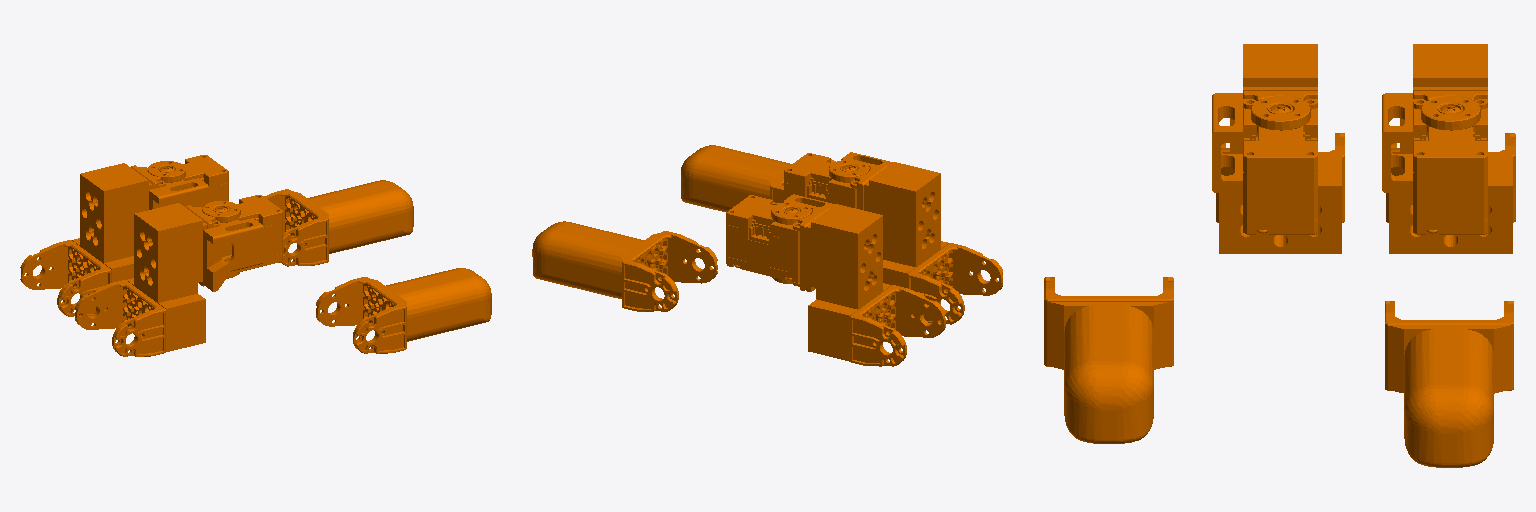
URDF robot description (onshape):
<robot name="onshape">
  <link name="palm_lower">
    <inertial>
      <origin xyz="0.0 0.0 0.0" rpy="0.0 -0.0 0.0"/>
      <mass value="0.237"/>
      <inertia ixx="0.000354094" ixy="-1.193e-06" ixz="-2.445e-06" iyy="0.000260915" iyz="-2.905e-06" izz="0.000529257"/>
    </inertial>
    <visual>
      <geometry>
        <mesh filename="../assets/leap/leap_hand/palm_lower.stl"/>
      </geometry>
      <origin xyz="-0.020095249652862544 0.025757756134899473 -0.034722403578460216" rpy="0.0 -0.0 0.0"/>
      <material name="palm_lower_material">
        <color rgba="0.6039215686274509 0.14901960784313725 0.14901960784313725 1.0"/>
      </material>
    </visual>
    <collision>
      <geometry>
        <mesh filename="../assets/leap/leap_hand/palm_lower.stl"/>
      </geometry>
      <origin xyz="-0.020095249652862544 0.025757756134899473 -0.034722403578460216" rpy="0.0 -0.0 0.0"/>
    </collision>
  </link>
  <link name="mcp_joint_long">
    <inertial>
      <origin xyz="0.0 0.0 0.0" rpy="0.0 -0.0 0.0"/>
      <mass value="0.044"/>
      <inertia ixx="1.1499e-05" ixy="3.049e-06" ixz="1.21e-07" iyy="7.796e-06" iyz="1.12e-07" izz="1.4759e-05"/>
    </inertial>
    <visual>
      <geometry>
        <mesh filename="custom_models/mcp_joint_long.stl"/>
      </geometry>
      <origin xyz="0.008406902261174496 0.0077662438597169954 0.014657354985032912" rpy="1.6375789613221e-15 -1.021047330249102e-30 1.7177968783327987e-31"/>
      <material name="mcp_joint_material">
        <color rgba="0.878 0.467 0.0 1.0"/>
      </material>
    </visual>
    <collision>
      <geometry>
        <mesh filename="custom_models/mcp_joint_long.stl"/>
      </geometry>
      <origin xyz="0.008406902261174496 0.0077662438597169954 0.014657354985032912" rpy="1.6375789613221e-15 -1.021047330249102e-30 1.7177968783327987e-31"/>
    </collision>
  </link>
  <link name="pip">
    <inertial>
      <origin xyz="0.0 0.0 0.0" rpy="0.0 -0.0 0.0"/>
      <mass value="0.032"/>
      <inertia ixx="4.798e-06" ixy="1.2e-08" ixz="4e-09" iyy="2.862e-06" iyz="1.1e-08" izz="4.234e-06"/>
    </inertial>
    <visual>
      <geometry>
        <mesh filename="../assets/leap/leap_hand/pip.stl"/>
      </geometry>
      <origin xyz="0.009643363092271328 0.0002999999999999895 0.0007840340104173765" rpy="-1.5707963267948966 -1.5707963267948963 0.0"/>
      <material name="pip_material">
        <color rgba="0.7490196078431373 0.7490196078431373 0.7490196078431373 1.0"/>
      </material>
    </visual>
    <collision>
      <geometry>
        <mesh filename="../assets/leap/leap_hand/pip.stl"/>
      </geometry>
      <origin xyz="0.009643363092271328 0.0002999999999999895 0.0007840340104173765" rpy="-1.5707963267948966 -1.5707963267948963 0.0"/>
    </collision>
  </link>
  <link name="dip">
    <inertial>
      <origin xyz="0.0 0.0 0.0" rpy="0.0 -0.0 0.0"/>
      <mass value="0.037"/>
      <inertia ixx="5.542e-06" ixy="-6.07e-07" ixz="-1.7e-08" iyy="5.727e-06" iyz="-2.3e-08" izz="6.682e-06"/>
    </inertial>
    <visual>
      <geometry>
        <mesh filename="../assets/leap/leap_hand/dip.stl"/>
      </geometry>
      <origin xyz="0.021133352895225003 -0.00843211914670488 0.00978508816209524" rpy="-3.141592653589793 4.507511124216441e-32 4.439548105392361e-32"/>
      <material name="dip_material">
        <color rgba="0.8666666666666667 0.8666666666666667 0.050980392156862744 1.0"/>
      </material>
    </visual>
    <collision>
      <geometry>
        <mesh filename="../assets/leap/leap_hand/dip.stl"/>
      </geometry>
      <origin xyz="0.021133352895225003 -0.00843211914670488 0.00978508816209524" rpy="-3.141592653589793 4.507511124216441e-32 4.439548105392361e-32"/>
    </collision>
  </link>
  <link name="fingertip_long">
    <inertial>
      <origin xyz="0.0 0.0 0.0" rpy="0.0 -0.0 0.0"/>
      <mass value="0.016"/>
      <inertia ixx="3.368e-06" ixy="1.15e-07" ixz="0.0" iyy="1.556e-06" iyz="0.0" izz="2.863e-06"/>
    </inertial>
    <visual>
      <geometry>
        <mesh filename="custom_models/fingertip_long.stl"/>
      </geometry>
      <origin xyz="0.013286424108533503 -0.006114238386541987 0.014499999999999498" rpy="3.141592653589793 1.1993117970061735e-33 4.439548105392361e-32"/>
      <material name="fingertip_material">
        <color rgba="0.878 0.467 0.0 1.0"/>
      </material>
    </visual>
    <collision>
      <geometry>
        <mesh filename="custom_models/fingertip_long.stl"/>
      </geometry>
      <origin xyz="0.013286424108533503 -0.006114238386541987 0.014499999999999498" rpy="3.141592653589793 1.1993117970061735e-33 4.439548105392361e-32"/>
    </collision>
  </link>
  <link name="pip_4">
    <inertial>
      <origin xyz="0.0 0.0 0.0" rpy="0.0 -0.0 0.0"/>
      <mass value="0.032"/>
      <inertia ixx="4.798e-06" ixy="1.2e-08" ixz="4e-09" iyy="2.862e-06" iyz="1.1e-08" izz="4.234e-06"/>
    </inertial>
    <visual>
      <geometry>
        <mesh filename="../assets/leap/leap_hand/pip.stl"/>
      </geometry>
      <origin xyz="-0.005356636907728671 0.0002999999999999999 0.0007840340104173782" rpy="-1.5707963267948966 -1.5707963267948963 0.0"/>
      <material name="pip_material">
        <color rgba="0.7490196078431373 0.7490196078431373 0.7490196078431373 1.0"/>
      </material>
    </visual>
    <collision>
      <geometry>
        <mesh filename="../assets/leap/leap_hand/pip.stl"/>
      </geometry>
      <origin xyz="-0.005356636907728671 0.0002999999999999999 0.0007840340104173782" rpy="-1.5707963267948966 -1.5707963267948963 0.0"/>
    </collision>
  </link>
  <link name="thumb_pip">
    <inertial>
      <origin xyz="0.0 0.0 0.0" rpy="0.0 -0.0 0.0"/>
      <mass value="0.003"/>
      <inertia ixx="5.93e-07" ixy="0.0" ixz="0.0" iyy="5.49e-07" iyz="0.0" izz="2.24e-07"/>
    </inertial>
    <visual>
      <geometry>
        <mesh filename="../assets/leap/leap_hand/thumb_pip.stl"/>
      </geometry>
      <origin xyz="0.011961920770611187 -5.30825383648903e-16 -0.0158526489566642" rpy="1.5707963267948966 1.6050198443300153e-46 -3.9204996250525193e-59"/>
      <material name="thumb_pip_material">
        <color rgba="0.8666666666666667 0.8666666666666667 0.050980392156862744 1.0"/>
      </material>
    </visual>
    <collision>
      <geometry>
        <mesh filename="../assets/leap/leap_hand/thumb_pip.stl"/>
      </geometry>
      <origin xyz="0.011961920770611187 -5.30825383648903e-16 -0.0158526489566642" rpy="1.5707963267948966 1.6050198443300153e-46 -3.9204996250525193e-59"/>
    </collision>
  </link>
  <link name="thumb_dip">
    <inertial>
      <origin xyz="0.0 0.0 0.0" rpy="0.0 -0.0 0.0"/>
      <mass value="0.038"/>
      <inertia ixx="8.474e-06" ixy="2.41e-07" ixz="2.6e-08" iyy="3.841e-06" iyz="2.5e-08" izz="7.679e-06"/>
    </inertial>
    <visual>
      <geometry>
        <mesh filename="../assets/leap/leap_hand/thumb_dip.stl"/>
      </geometry>
      <origin xyz="0.043968715707239175 0.0579529529737092 -0.008628676449369476" rpy="1.94289029309401e-16 3.27515792264422e-15 1.112375852965736e-46"/>
      <material name="thumb_dip_material">
        <color rgba="0.8666666666666667 0.8666666666666667 0.050980392156862744 1.0"/>
      </material>
    </visual>
    <collision>
      <geometry>
        <mesh filename="../assets/leap/leap_hand/thumb_dip.stl"/>
      </geometry>
      <origin xyz="0.043968715707239175 0.0579529529737092 -0.008628676449369476" rpy="1.94289029309401e-16 3.27515792264422e-15 1.112375852965736e-46"/>
    </collision>
  </link>
  <link name="thumb_fingertip">
    <inertial>
      <origin xyz="0.0 0.0 0.0" rpy="0.0 -0.0 0.0"/>
      <mass value="0.049"/>
      <inertia ixx="2.0372e-05" ixy="-4.89e-07" ixz="-3e-08" iyy="4.336e-06" iyz="-9.7e-08" izz="1.9845e-05"/>
    </inertial>
    <visual>
      <geometry>
        <mesh filename="../assets/leap/leap_hand/thumb_fingertip.stl"/>
      </geometry>
      <origin xyz="0.06255953846266739 0.07845968291139699 0.048992911807332215" rpy="4.379057701015637e-47 -3.33066907387547e-16 1.2042408677791935e-46"/>
      <material name="thumb_fingertip_material">
        <color rgba="0.6039215686274509 0.14901960784313725 0.14901960784313725 1.0"/>
      </material>
    </visual>
    <collision>
      <geometry>
        <mesh filename="../assets/leap/leap_hand/thumb_fingertip.stl"/>
      </geometry>
      <origin xyz="0.06255953846266739 0.07845968291139699 0.048992911807332215" rpy="4.379057701015637e-47 -3.33066907387547e-16 1.2042408677791935e-46"/>
    </collision>
  </link>
  <link name="mcp_joint_2_long">
    <inertial>
      <origin xyz="0.0 0.0 0.0" rpy="0.0 -0.0 0.0"/>
      <mass value="0.044"/>
      <inertia ixx="1.1499e-05" ixy="3.049e-06" ixz="1.21e-07" iyy="7.796e-06" iyz="1.12e-07" izz="1.4759e-05"/>
    </inertial>
    <visual>
      <geometry>
        <mesh filename="custom_models/mcp_joint_long.stl"/>
      </geometry>
      <origin xyz="0.008406902261174496 0.0077662438597169954 0.014657354985032914" rpy="1.6375789613221e-15 -1.0076465469034e-30 2.1209300131419907e-61"/>
      <material name="mcp_joint_material">
        <color rgba="0.878 0.467 0.0 1.0"/>
      </material>
    </visual>
    <collision>
      <geometry>
        <mesh filename="custom_models/mcp_joint_long.stl"/>
      </geometry>
      <origin xyz="0.008406902261174496 0.0077662438597169954 0.014657354985032914" rpy="1.6375789613221e-15 -1.0076465469034e-30 2.1209300131419907e-61"/>
    </collision>
  </link>
  <link name="pip_2">
    <inertial>
      <origin xyz="0.0 0.0 0.0" rpy="0.0 -0.0 0.0"/>
      <mass value="0.032"/>
      <inertia ixx="4.798e-06" ixy="1.2e-08" ixz="4e-09" iyy="2.862e-06" iyz="1.1e-08" izz="4.234e-06"/>
    </inertial>
    <visual>
      <geometry>
        <mesh filename="../assets/leap/leap_hand/pip.stl"/>
      </geometry>
      <origin xyz="0.009643363092271328 0.0002999999999999947 0.0007840340104173765" rpy="-1.5707963267948966 -1.5707963267948963 0.0"/>
      <material name="pip_material">
        <color rgba="0.7490196078431373 0.7490196078431373 0.7490196078431373 1.0"/>
      </material>
    </visual>
    <collision>
      <geometry>
        <mesh filename="../assets/leap/leap_hand/pip.stl"/>
      </geometry>
      <origin xyz="0.009643363092271328 0.0002999999999999947 0.0007840340104173765" rpy="-1.5707963267948966 -1.5707963267948963 0.0"/>
    </collision>
  </link>
  <link name="dip_2">
    <inertial>
      <origin xyz="0.0 0.0 0.0" rpy="0.0 -0.0 0.0"/>
      <mass value="0.037"/>
      <inertia ixx="5.542e-06" ixy="-6.07e-07" ixz="-1.7e-08" iyy="5.727e-06" iyz="-2.3e-08" izz="6.682e-06"/>
    </inertial>
    <visual>
      <geometry>
        <mesh filename="../assets/leap/leap_hand/dip.stl"/>
      </geometry>
      <origin xyz="0.021133352895225003 -0.008432119146704865 0.009785088162095237" rpy="-3.141592653589793 2.1146933785271956e-32 1.4408183216511869e-31"/>
      <material name="dip_material">
        <color rgba="0.8666666666666667 0.8666666666666667 0.050980392156862744 1.0"/>
      </material>
    </visual>
    <collision>
      <geometry>
        <mesh filename="../assets/leap/leap_hand/dip.stl"/>
      </geometry>
      <origin xyz="0.021133352895225003 -0.008432119146704865 0.009785088162095237" rpy="-3.141592653589793 2.1146933785271956e-32 1.4408183216511869e-31"/>
    </collision>
  </link>
  <link name="fingertip_2">
    <inertial>
      <origin xyz="0.0 0.0 0.0" rpy="0.0 -0.0 0.0"/>
      <mass value="0.016"/>
      <inertia ixx="3.368e-06" ixy="1.15e-07" ixz="0.0" iyy="1.556e-06" iyz="0.0" izz="2.863e-06"/>
    </inertial>
    <visual>
      <geometry>
        <mesh filename="../assets/leap/leap_hand/fingertip.stl"/>
      </geometry>
      <origin xyz="0.013286424108533496 -0.006114238386542001 0.014499999999999496" rpy="3.141592653589793 -4.317959788283594e-33 1.4408183216511869e-31"/>
      <material name="fingertip_material">
        <color rgba="0.8666666666666667 0.8666666666666667 0.050980392156862744 1.0"/>
      </material>
    </visual>
    <collision>
      <geometry>
        <mesh filename="../assets/leap/leap_hand/fingertip.stl"/>
      </geometry>
      <origin xyz="0.013286424108533496 -0.006114238386542001 0.014499999999999496" rpy="3.141592653589793 -4.317959788283594e-33 1.4408183216511869e-31"/>
    </collision>
  </link>
  <link name="mcp_joint_3">
    <inertial>
      <origin xyz="0.0 0.0 0.0" rpy="0.0 -0.0 0.0"/>
      <mass value="0.044"/>
      <inertia ixx="1.1499e-05" ixy="3.049e-06" ixz="1.21e-07" iyy="7.796e-06" iyz="1.12e-07" izz="1.4759e-05"/>
    </inertial>
    <visual>
      <geometry>
        <mesh filename="../assets/leap/leap_hand/mcp_joint.stl"/>
      </geometry>
      <origin xyz="0.0084069022611745 0.007766243859716996 0.014657354985032914" rpy="1.6375789613221e-15 -1.0059504988632627e-30 5.729641584552035e-32"/>
      <material name="mcp_joint_material">
        <color rgba="0.8666666666666667 0.8666666666666667 0.050980392156862744 1.0"/>
      </material>
    </visual>
    <collision>
      <geometry>
        <mesh filename="../assets/leap/leap_hand/mcp_joint.stl"/>
      </geometry>
      <origin xyz="0.0084069022611745 0.007766243859716996 0.014657354985032914" rpy="1.6375789613221e-15 -1.0059504988632627e-30 5.729641584552035e-32"/>
    </collision>
  </link>
  <link name="pip_3">
    <inertial>
      <origin xyz="0.0 0.0 0.0" rpy="0.0 -0.0 0.0"/>
      <mass value="0.032"/>
      <inertia ixx="4.798e-06" ixy="1.2e-08" ixz="4e-09" iyy="2.862e-06" iyz="1.1e-08" izz="4.234e-06"/>
    </inertial>
    <visual>
      <geometry>
        <mesh filename="../assets/leap/leap_hand/pip.stl"/>
      </geometry>
      <origin xyz="0.009643363092271331 0.00029999999999998084 0.0007840340104173765" rpy="-1.5707963267948966 -1.5707963267948963 0.0"/>
      <material name="pip_material">
        <color rgba="0.7490196078431373 0.7490196078431373 0.7490196078431373 1.0"/>
      </material>
    </visual>
    <collision>
      <geometry>
        <mesh filename="../assets/leap/leap_hand/pip.stl"/>
      </geometry>
      <origin xyz="0.009643363092271331 0.00029999999999998084 0.0007840340104173765" rpy="-1.5707963267948966 -1.5707963267948963 0.0"/>
    </collision>
  </link>
  <link name="dip_3">
    <inertial>
      <origin xyz="0.0 0.0 0.0" rpy="0.0 -0.0 0.0"/>
      <mass value="0.037"/>
      <inertia ixx="5.542e-06" ixy="-6.07e-07" ixz="-1.7e-08" iyy="5.727e-06" iyz="-2.3e-08" izz="6.682e-06"/>
    </inertial>
    <visual>
      <geometry>
        <mesh filename="../assets/leap/leap_hand/dip.stl"/>
      </geometry>
      <origin xyz="0.021133352895225006 -0.008432119146704865 0.009785088162095237" rpy="-3.141592653589793 -1.4095651113919093e-33 1.5565411607615035e-32"/>
      <material name="dip_material">
        <color rgba="0.8666666666666667 0.8666666666666667 0.050980392156862744 1.0"/>
      </material>
    </visual>
    <collision>
      <geometry>
        <mesh filename="../assets/leap/leap_hand/dip.stl"/>
      </geometry>
      <origin xyz="0.021133352895225006 -0.008432119146704865 0.009785088162095237" rpy="-3.141592653589793 -1.4095651113919093e-33 1.5565411607615035e-32"/>
    </collision>
  </link>
  <link name="fingertip_3_long">
    <inertial>
      <origin xyz="0.0 0.0 0.0" rpy="0.0 -0.0 0.0"/>
      <mass value="0.016"/>
      <inertia ixx="3.368e-06" ixy="1.15e-07" ixz="0.0" iyy="1.556e-06" iyz="0.0" izz="2.863e-06"/>
    </inertial>
    <visual>
      <geometry>
        <mesh filename="custom_models/fingertip_long.stl"/>
      </geometry>
      <origin xyz="0.013286424108533501 -0.006114238386541987 0.0144999999999995" rpy="3.141592653589793 8.61707169505754e-33 1.5565411607615035e-32"/>
      <material name="fingertip_material">
        <color rgba="0.878 0.467 0.0 1.0"/>
      </material>
    </visual>
    <collision>
      <geometry>
        <mesh filename="custom_models/fingertip_long.stl"/>
      </geometry>
      <origin xyz="0.013286424108533501 -0.006114238386541987 0.0144999999999995" rpy="3.141592653589793 8.61707169505754e-33 1.5565411607615035e-32"/>
    </collision>
  </link>
  <joint name="1" type="revolute">
    <parent link="palm_lower"/>
    <child link="mcp_joint_long"/>
    <origin xyz="-0.007095249652862546 0.023057756134899472 -0.01872240357846022" rpy="1.570796326794895 1.5707963267948946 0.0"/>
    <axis xyz="0.0 0.0 -1.0"/>
    <limit effort="0.95" velocity="8.48" lower="-0.314" upper="2.23"/>
  </joint>
  <joint name="0" type="revolute">
    <parent link="mcp_joint_long"/>
    <child link="pip"/>
    <origin xyz="-0.012200000000000007713 0.053099999999999994982 0.014500000000000000736" rpy="-1.5707963267948966 -1.0065212660796337e-15 1.5707963267948943"/>
    <axis xyz="0.0 0.0 -1.0"/>
    <limit effort="0.95" velocity="8.48" lower="-1.047" upper="1.047"/>
  </joint>
  <joint name="2" type="revolute">
    <parent link="pip"/>
    <child link="dip"/>
    <origin xyz="0.014999999999999968 0.014299999999999905 -0.012999999999999824" rpy="1.570796326794896 -1.5707963267948963 0.0"/>
    <axis xyz="0.0 0.0 -1.0"/>
    <limit effort="0.95" velocity="8.48" lower="-0.506" upper="1.885"/>
  </joint>
  <joint name="3" type="revolute">
    <parent link="dip"/>
    <child link="fingertip_long"/>
    <origin xyz="-4.088058249557269e-09 -0.03610000421036737 0.0002000000000000786" rpy="4.5935029425113685e-17 -2.8730071914463795e-16 4.439548105392361e-32"/>
    <axis xyz="0.0 0.0 -1.0"/>
    <limit effort="0.95" velocity="8.48" lower="-0.366" upper="2.042"/>
  </joint>
  <joint name="12" type="revolute">
    <parent link="palm_lower"/>
    <child link="pip_4"/>
    <origin xyz="-0.06939524965286253 -0.0012422438651005258 -0.021622403578460216" rpy="-8.238176646493942e-17 1.5707963267948957 0.0"/>
    <axis xyz="0.0 0.0 -1.0"/>
    <limit effort="0.95" velocity="8.48" lower="-0.349" upper="2.094"/>
  </joint>
  <joint name="13" type="revolute">
    <parent link="pip_4"/>
    <child link="thumb_pip"/>
    <origin xyz="-2.7755575615628914e-17 0.014300000000000005 -0.013000000000000012" rpy="1.570796326794896 -1.5707963267948963 0.0"/>
    <axis xyz="0.0 0.0 -1.0"/>
    <limit effort="0.95" velocity="8.48" lower="-0.47" upper="2.443"/>
  </joint>
  <joint name="14" type="revolute">
    <parent link="thumb_pip"/>
    <child link="thumb_dip"/>
    <origin xyz="0.0 0.014499999999999966 -0.017000000000000053" rpy="-1.5707963267948966 1.6050198443300131e-46 -1.9721522630516625e-31"/>
    <axis xyz="0.0 0.0 -1.0"/>
    <limit effort="0.95" velocity="8.48" lower="-1.2" upper="1.9"/>
  </joint>
  <joint name="15" type="revolute">
    <parent link="thumb_dip"/>
    <child link="thumb_fingertip"/>
    <origin xyz="-1.249000902703301e-16 0.046599999999999864 0.0001999999999999771" rpy="1.506395849149178e-44 5.423418723393526e-31 3.141592653589793"/>
    <axis xyz="0.0 0.0 -1.0"/>
    <limit effort="0.95" velocity="8.48" lower="-1.34" upper="1.88"/>
  </joint>
  <joint name="5" type="revolute">
    <parent link="palm_lower"/>
    <child link="mcp_joint_2_long"/>
    <origin xyz="-0.007095249652862546 -0.022392243865100525 -0.01872240357846022" rpy="1.570796326794895 1.5707963267948946 0.0"/>
    <axis xyz="0.0 0.0 -1.0"/>
    <limit effort="0.95" velocity="8.48" lower="-0.314" upper="2.23"/>
  </joint>
  <joint name="4" type="revolute">
    <parent link="mcp_joint_2_long"/>
    <child link="pip_2"/>
    <origin xyz="-0.012200000000000007713 0.053099999999999994982 0.014500000000000000736" rpy="-1.5707963267948966 -1.0065212660796337e-15 1.5707963267948943"/>
    <axis xyz="0.0 0.0 -1.0"/>
    <limit effort="0.95" velocity="8.48" lower="-1.047" upper="1.047"/>
  </joint>
  <joint name="6" type="revolute">
    <parent link="pip_2"/>
    <child link="dip_2"/>
    <origin xyz="0.014999999999999968 0.014299999999999905 -0.012999999999999824" rpy="1.570796326794896 -1.5707963267948963 0.0"/>
    <axis xyz="0.0 0.0 -1.0"/>
    <limit effort="0.95" velocity="8.48" lower="-0.506" upper="1.885"/>
  </joint>
  <joint name="7" type="revolute">
    <parent link="dip_2"/>
    <child link="fingertip_2"/>
    <origin xyz="-4.088058249557269e-09 -0.03610000421036737 0.0002000000000000786" rpy="4.5935029425113685e-17 -2.8730071914463795e-16 4.439548105392361e-32"/>
    <axis xyz="0.0 0.0 -1.0"/>
    <limit effort="0.95" velocity="8.48" lower="-0.366" upper="2.042"/>
  </joint>
  <joint name="9" type="revolute">
    <parent link="palm_lower"/>
    <child link="mcp_joint_3"/>
    <origin xyz="-0.007095249652862546 -0.06784224386510052 -0.01872240357846022" rpy="1.570796326794895 1.5707963267948946 0.0"/>
    <axis xyz="0.0 0.0 -1.0"/>
    <limit effort="0.95" velocity="8.48" lower="-0.314" upper="2.23"/>
  </joint>
  <joint name="8" type="revolute">
    <parent link="mcp_joint_3"/>
    <child link="pip_3"/>
    <origin xyz="-0.012200000000000008 0.038099999999999995 0.0145" rpy="-1.5707963267948966 -1.0065212660796337e-15 1.5707963267948943"/>
    <axis xyz="0.0 0.0 -1.0"/>
    <limit effort="0.95" velocity="8.48" lower="-1.047" upper="1.047"/>
  </joint>
  <joint name="10" type="revolute">
    <parent link="pip_3"/>
    <child link="dip_3"/>
    <origin xyz="0.014999999999999968 0.014299999999999905 -0.012999999999999824" rpy="1.570796326794896 -1.5707963267948963 0.0"/>
    <axis xyz="0.0 0.0 -1.0"/>
    <limit effort="0.95" velocity="8.48" lower="-0.506" upper="1.885"/>
  </joint>
  <joint name="11" type="revolute">
    <parent link="dip_3"/>
    <child link="fingertip_3_long"/>
    <origin xyz="-4.088058249557269e-09 -0.03610000421036737 0.0002000000000000786" rpy="4.5935029425113685e-17 -2.8730071914463795e-16 4.439548105392361e-32"/>
    <axis xyz="0.0 0.0 -1.0"/>
    <limit effort="0.95" velocity="8.48" lower="-0.366" upper="2.042"/>
  </joint>
</robot>

--- Render facts (derived) ---
The picture shows the robot from 3 angles, left to right: view 1: azimuth 30°, elevation 25°; view 2: azimuth 150°, elevation 25°; view 3: azimuth 270°, elevation 25°; orthographic projection.
Robot: onshape — 17 links, 16 joints (16 revolute); root link palm_lower; default pose: all joints at 0.
Links seen in each view (by area): view 1: mcp_joint_2_long, mcp_joint_long, fingertip_3_long, fingertip_long; view 2: mcp_joint_long, mcp_joint_2_long, fingertip_long, fingertip_3_long; view 3: mcp_joint_long, mcp_joint_2_long, fingertip_3_long, fingertip_long.
Boxes of the visible links, x1,y1,x2,y2 form: mcp_joint_2_long: (75, 195, 282, 356); mcp_joint_long: (20, 155, 228, 316); fingertip_3_long: (316, 268, 491, 353); fingertip_long: (264, 180, 413, 266); mcp_joint_long: (726, 194, 945, 366); mcp_joint_2_long: (784, 152, 1002, 324); fingertip_long: (532, 221, 717, 311); fingertip_3_long: (681, 145, 835, 211); mcp_joint_long: (1382, 44, 1515, 253); mcp_joint_2_long: (1212, 44, 1344, 253); fingertip_3_long: (1044, 277, 1173, 443); fingertip_long: (1385, 301, 1513, 467).
Size in the robot's own frame: 0.1766 by 0.1259 by 0.0549 metres.
Meshes: 10 distinct files referenced, 4 mesh visuals loaded (2 binary STL); not drawn: 13 (reference not matched to a file when rendering).